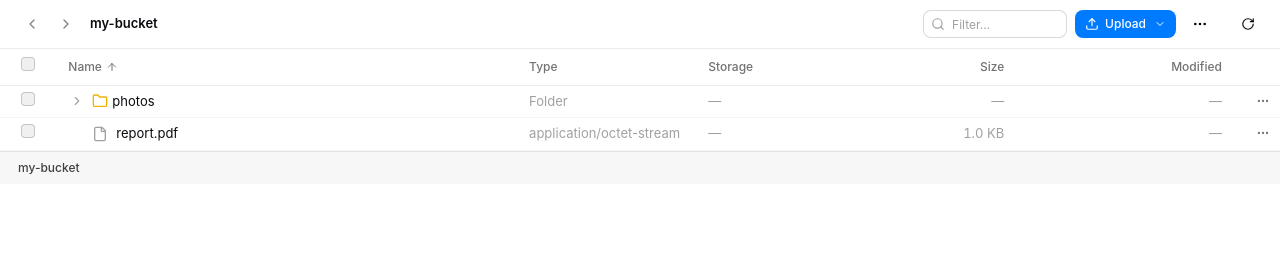
ObjectBrowser header bulk actions › exposes bulk copy and move actions in the header for multi-selection
Expected: the text "report.pdf" is shown, x1=116 y1=125 x2=178 y2=141
Click the checkbox named "Select report.pdf".
click(28, 131)  # box x1=21 y1=124 x2=35 y2=138
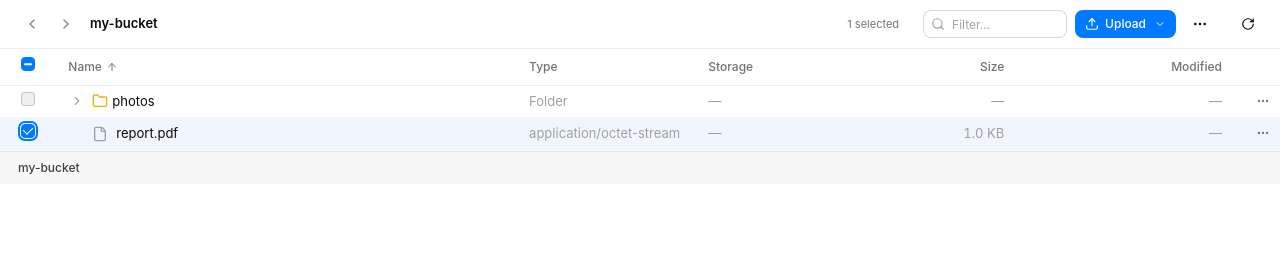
Click the checkbox named "Select photos".
click(28, 98)  # box x1=21 y1=92 x2=35 y2=106
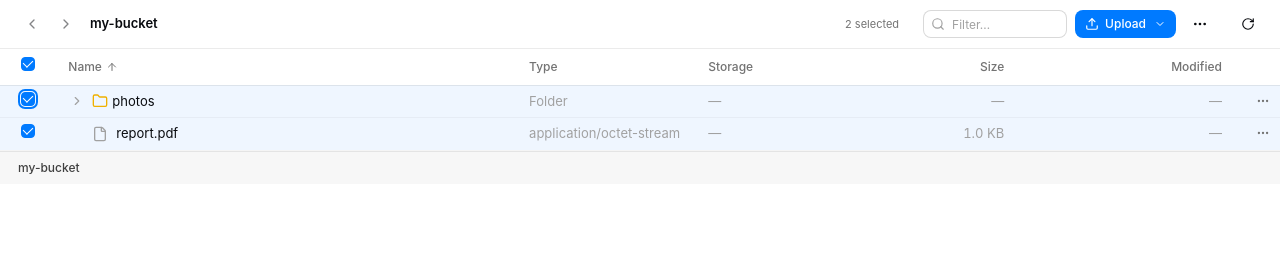
Click the button with test id "overflow-menu-trigger".
click(1200, 24)  # box x1=1184 y1=8 x2=1216 y2=40
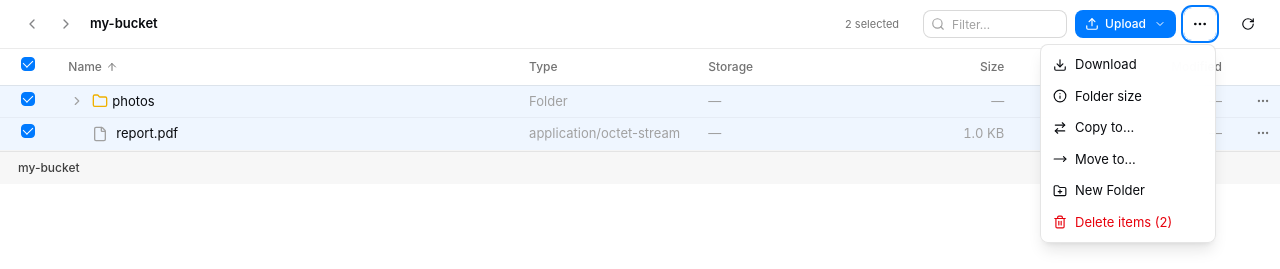
Expected: the menu item "Copy to…" is enabled, x1=1041 y1=112 x2=1215 y2=144
Expected: the menu item "Move to…" is enabled, x1=1041 y1=144 x2=1215 y2=175
